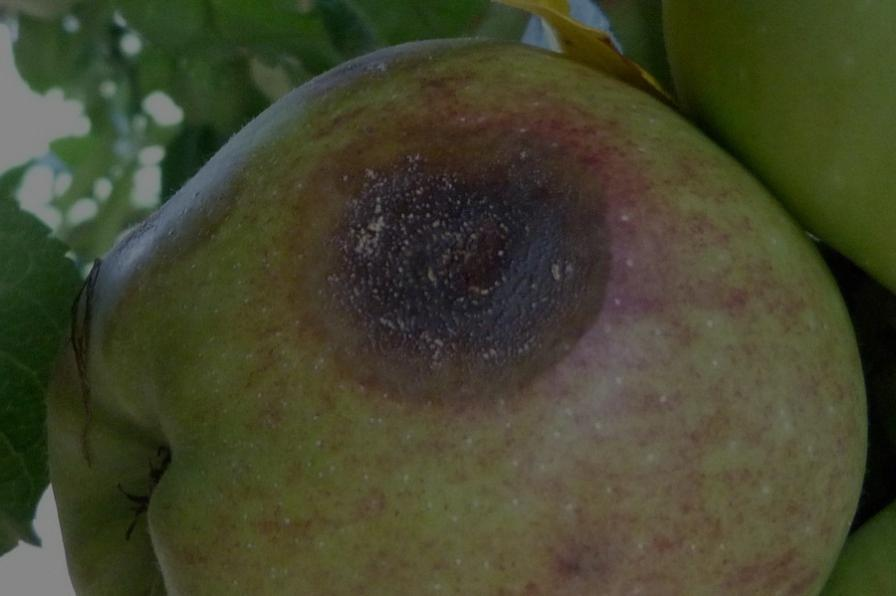rotten apple: (45, 38, 861, 596)
